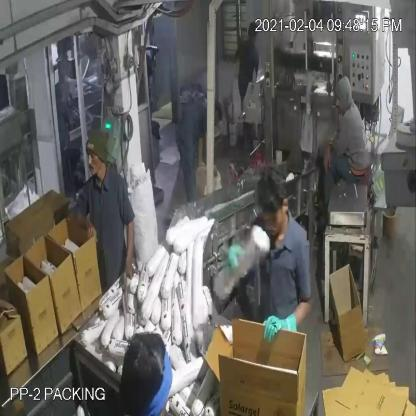glove: (262, 308, 308, 351), (224, 239, 247, 280)
no_glove: (117, 205, 139, 298), (66, 197, 100, 255), (321, 128, 343, 180)
